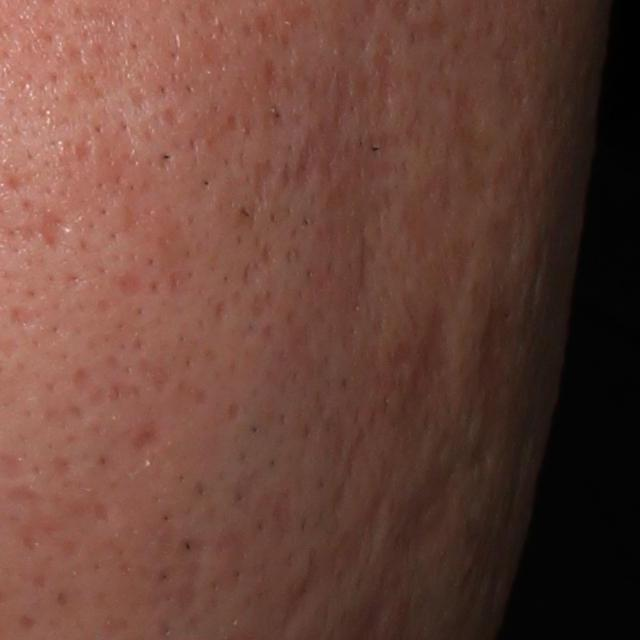atrophic_scar: (411, 299, 459, 389), (274, 549, 326, 629), (478, 307, 509, 405), (363, 480, 399, 551), (123, 414, 168, 452), (296, 132, 322, 185), (41, 212, 74, 250), (254, 158, 279, 200), (119, 266, 145, 295)
